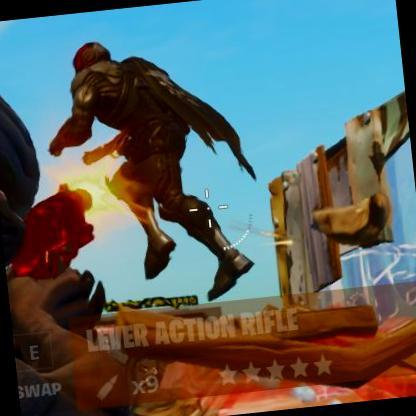person: (64, 34, 226, 296)
